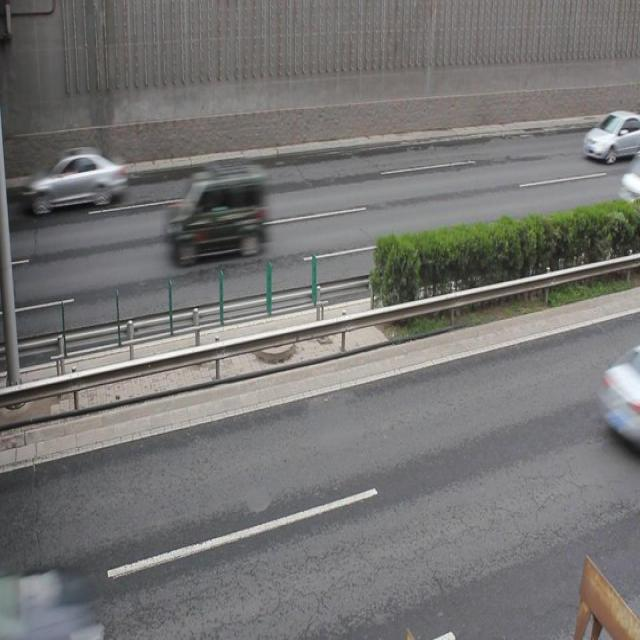car: (165, 162, 268, 263), (34, 145, 127, 213), (581, 109, 640, 164)
